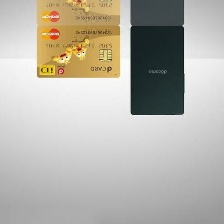book: (126, 23, 190, 118), (35, 22, 122, 80)
